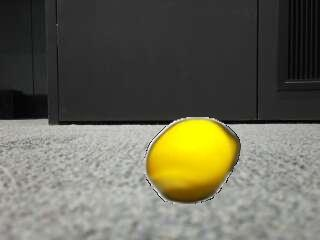lemon: (148, 119, 238, 203)
